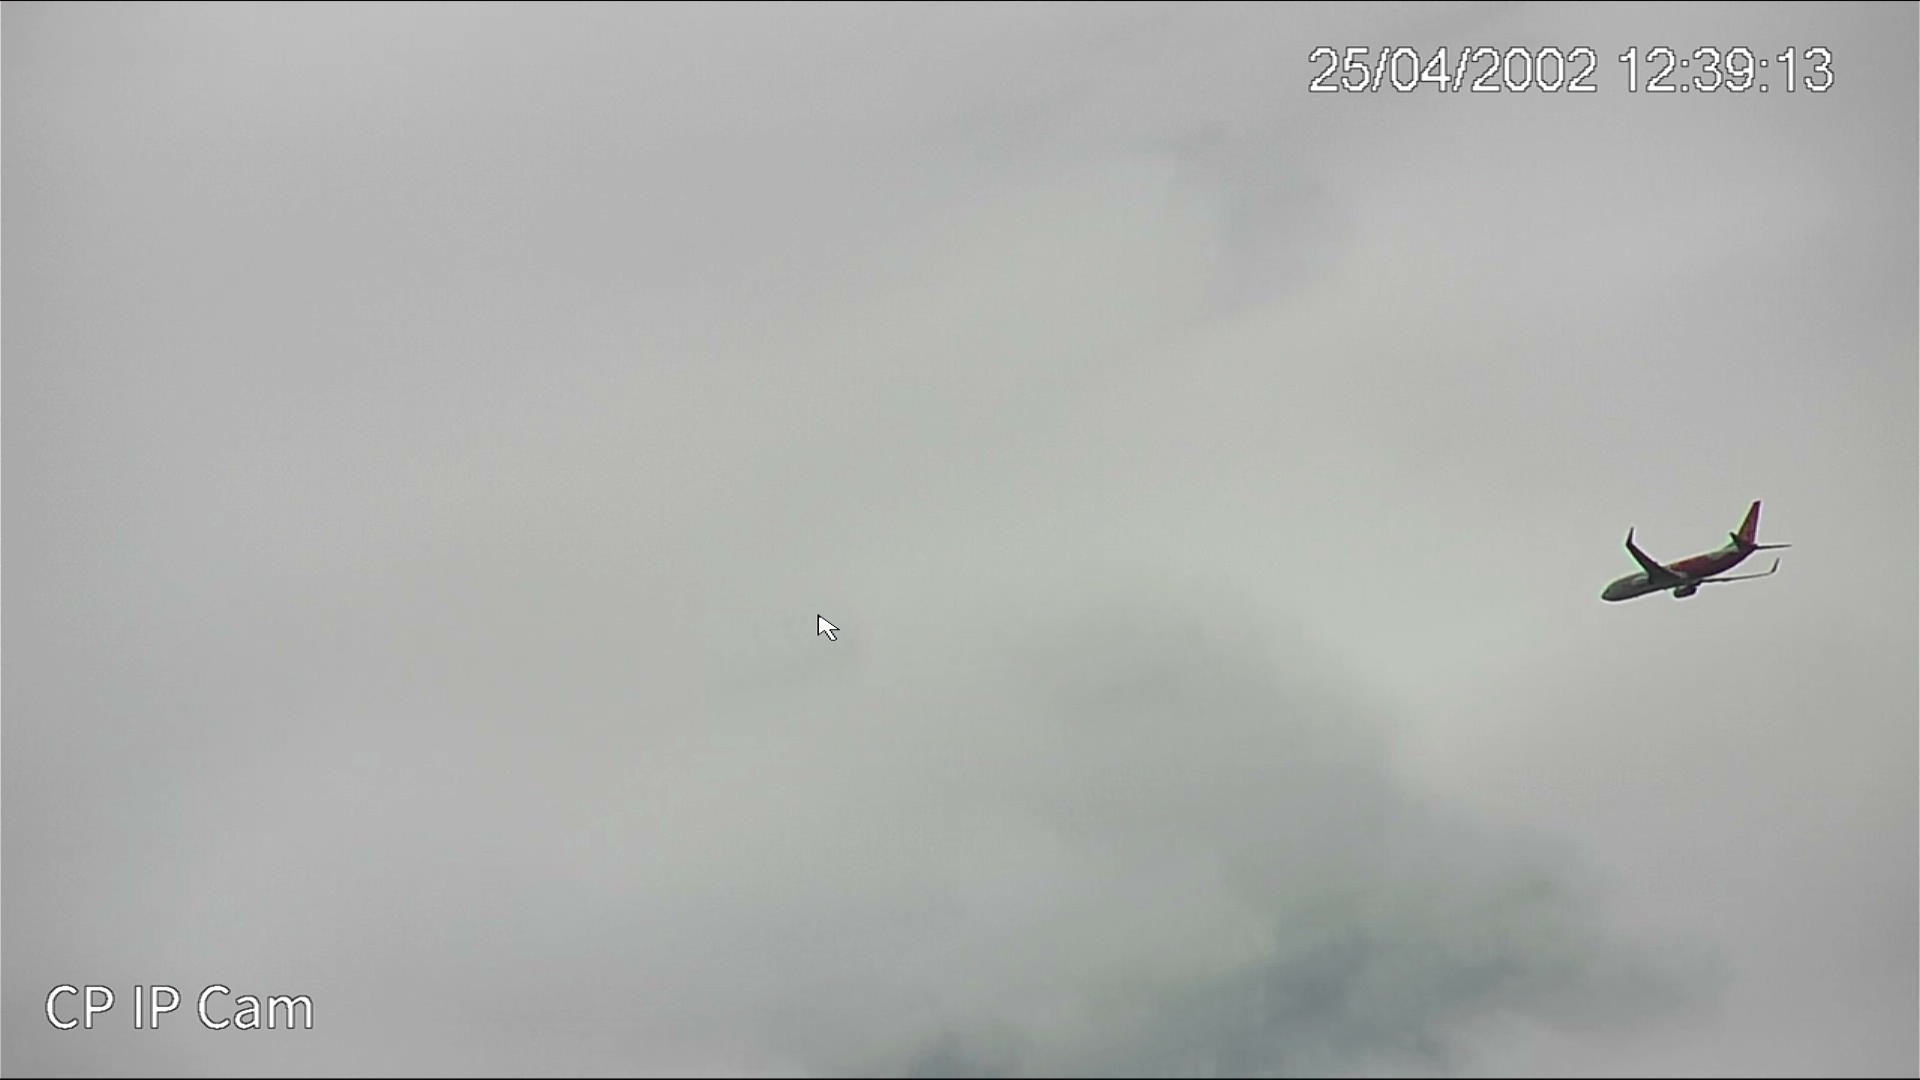SU_30: (1590, 495, 1807, 601)
